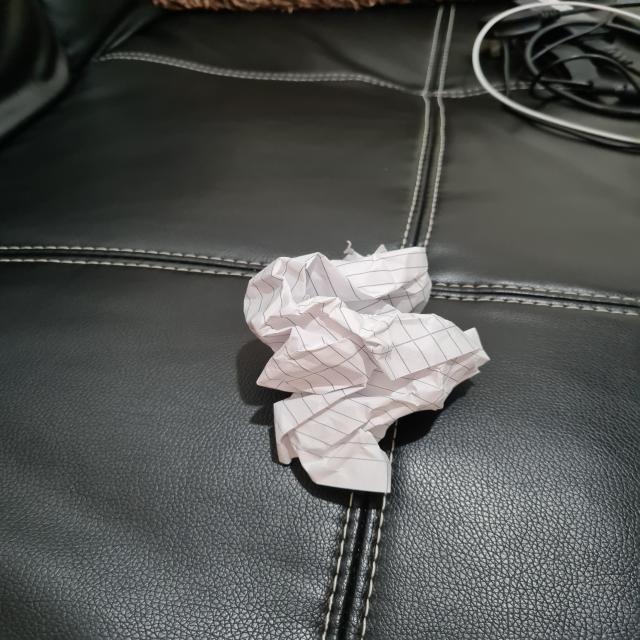trash: (239, 247, 489, 488)
